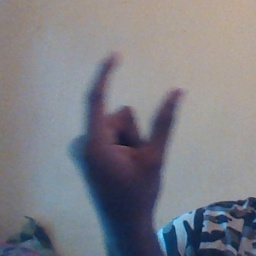U: (62, 50, 191, 200)
